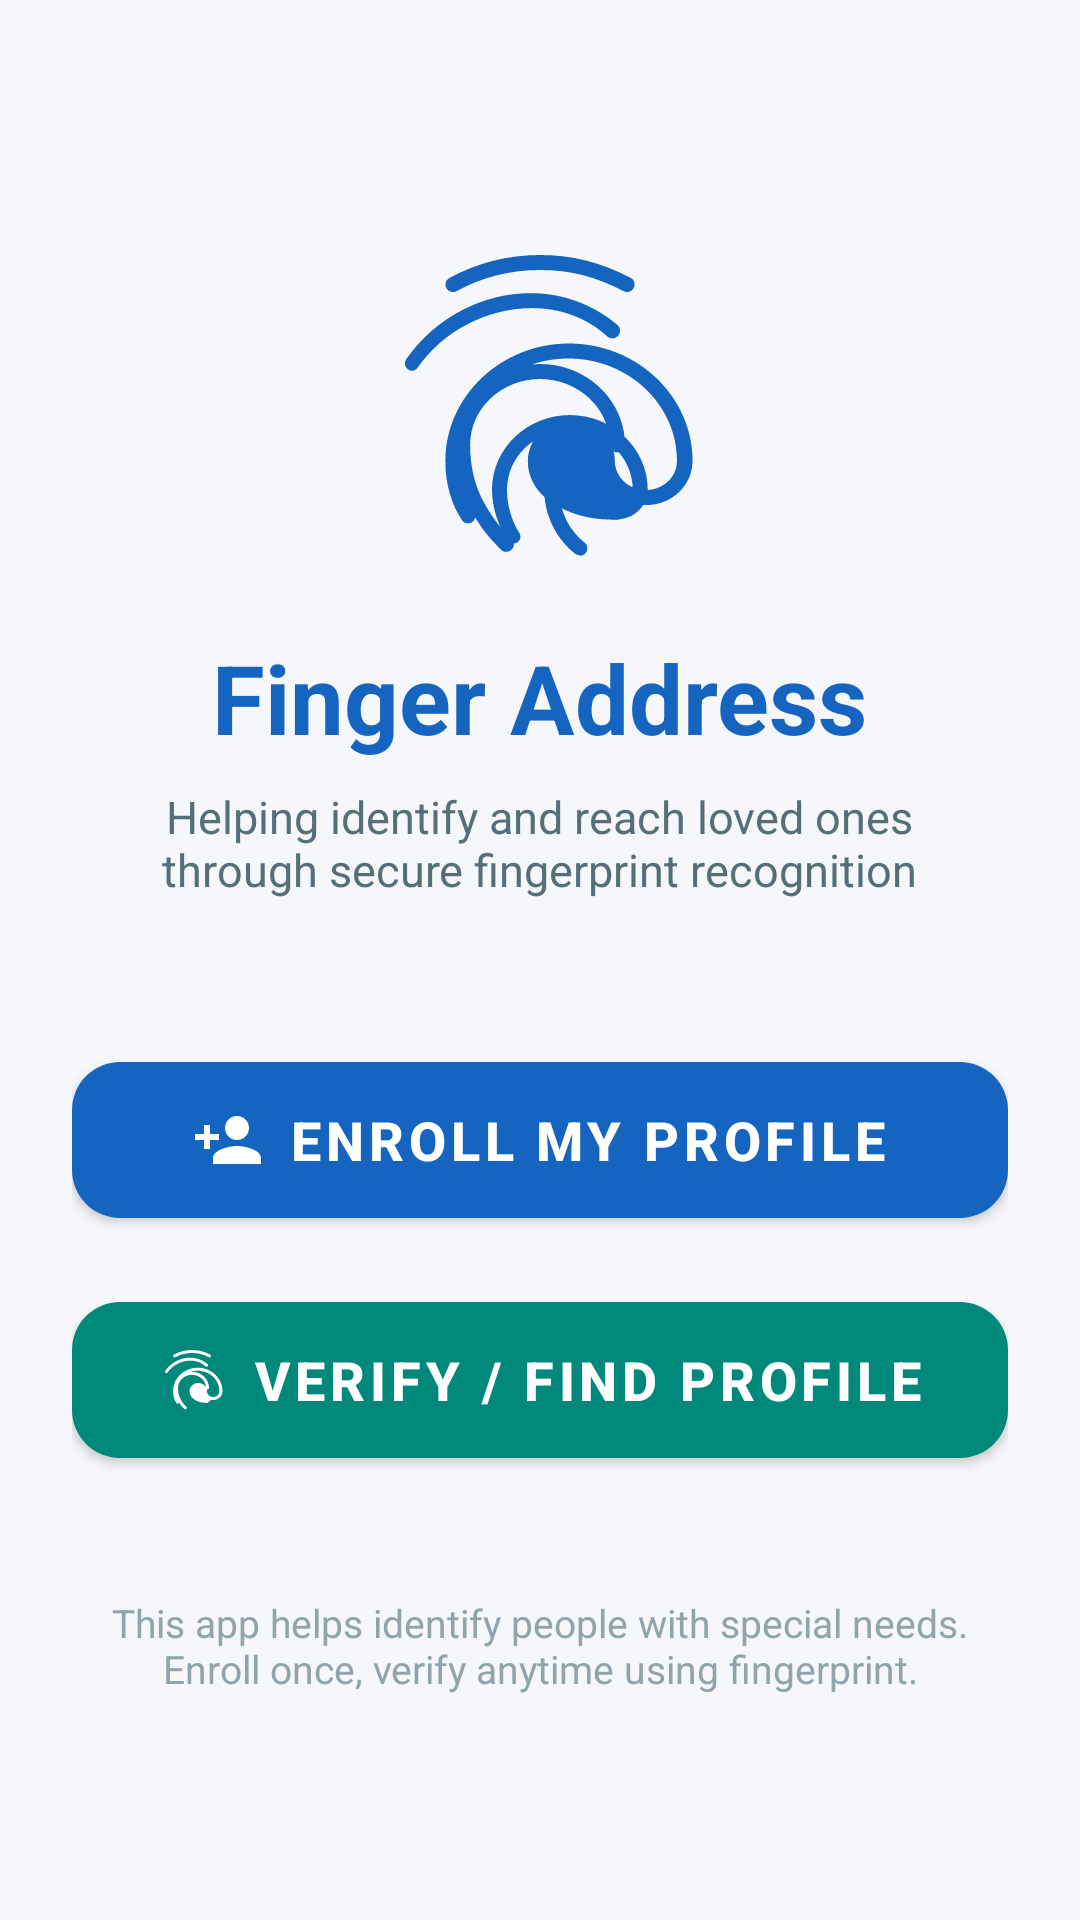

Where to tap for icons on this 1080*1920 app screen, as (x,y):
fingerprint: (549,405)
